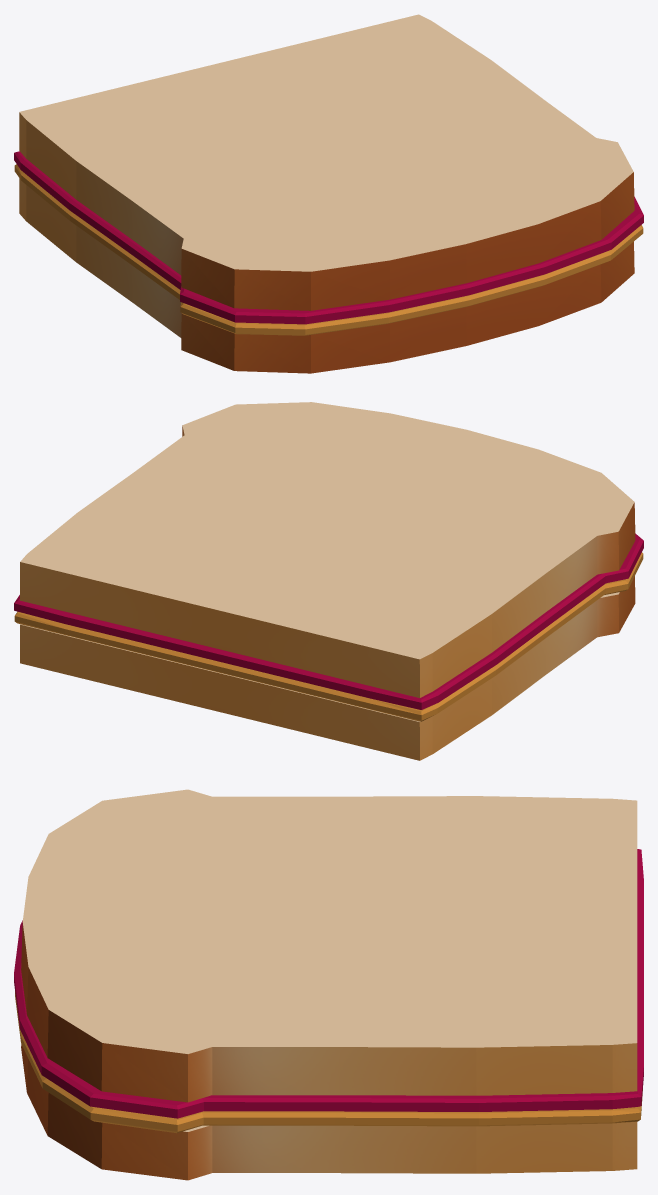
File: peanut butter and jelly.gltf
The picture shows the model from 3 angles, top to bottom: view 1: azimuth 30°, elevation 25°; view 2: azimuth 150°, elevation 25°; view 3: azimuth 270°, elevation 25°; orthographic projection. The views are drawn at different scales.
Parts seen in each view (by area): view 1: node-0; view 2: node-0; view 3: node-0.
Boxes of the visible parts, x1,y1,x2,y2 form: node-0: [14, 14, 643, 373]; node-0: [14, 402, 643, 760]; node-0: [14, 789, 643, 1180].
Size of the model in its own units: 1.13 by 0.2429 by 1.1.
Materials: 4 (1 with a texture image).
